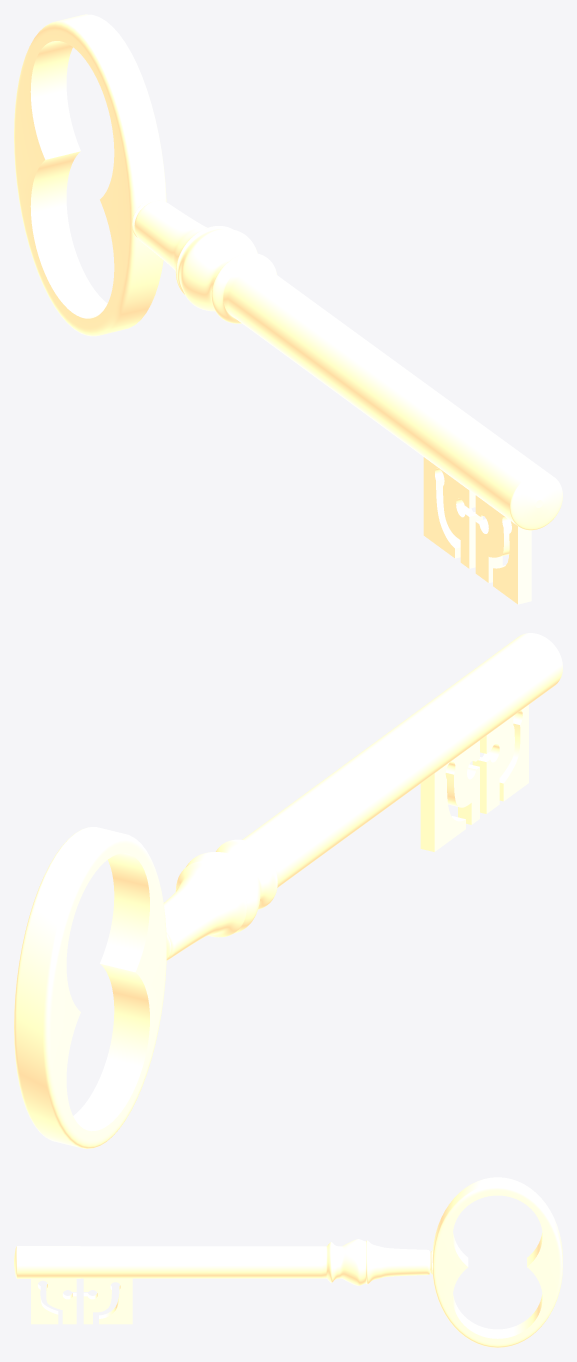
Rendered from unlock.glb.
The picture shows the model from 3 angles, top to bottom: view 1: azimuth 30°, elevation 25°; view 2: azimuth 150°, elevation 25°; view 3: azimuth 270°, elevation 25°; orthographic projection. The views are drawn at different scales.
Visible parts, largest first — view 1: Line001_Material #30_0, Cylinder004_Material #30_0, Box007_Material #30_0; view 2: Cylinder004_Material #30_0, Line001_Material #30_0, Box007_Material #30_0; view 3: Line001_Material #30_0, Cylinder004_Material #30_0, Box007_Material #30_0.
Part boxes in pixels (<box>): Line001_Material #30_0: <box>132,199,562,530</box>; Cylinder004_Material #30_0: <box>14,14,166,336</box>; Box007_Material #30_0: <box>423,457,531,604</box>; Cylinder004_Material #30_0: <box>14,827,166,1148</box>; Line001_Material #30_0: <box>163,633,562,960</box>; Box007_Material #30_0: <box>420,705,528,851</box>; Line001_Material #30_0: <box>14,1239,432,1285</box>; Cylinder004_Material #30_0: <box>432,1177,562,1347</box>; Box007_Material #30_0: <box>31,1278,132,1324</box>.
Bounding box in the file's own units: 5.49 × 21.07 × 64.24.
